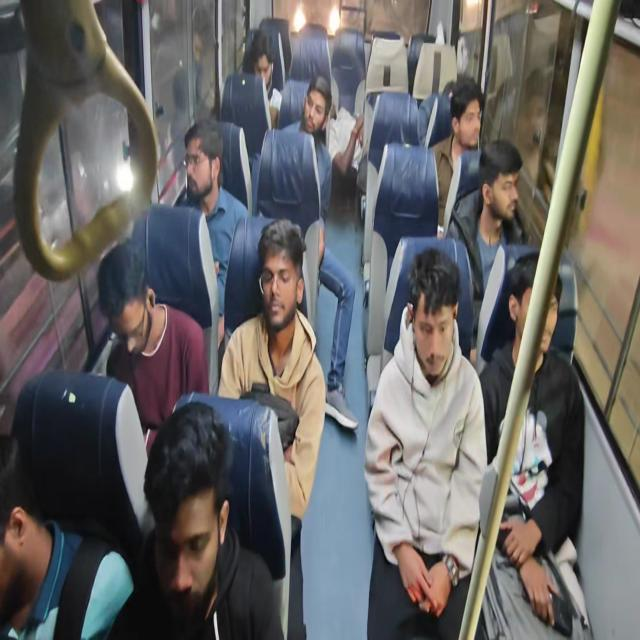person: (144, 400, 242, 622), (405, 245, 469, 388), (0, 419, 52, 594), (94, 244, 164, 364), (510, 261, 573, 372), (254, 212, 303, 353), (477, 144, 531, 243), (176, 118, 222, 208), (449, 73, 486, 144), (296, 64, 328, 141), (248, 28, 273, 94)
